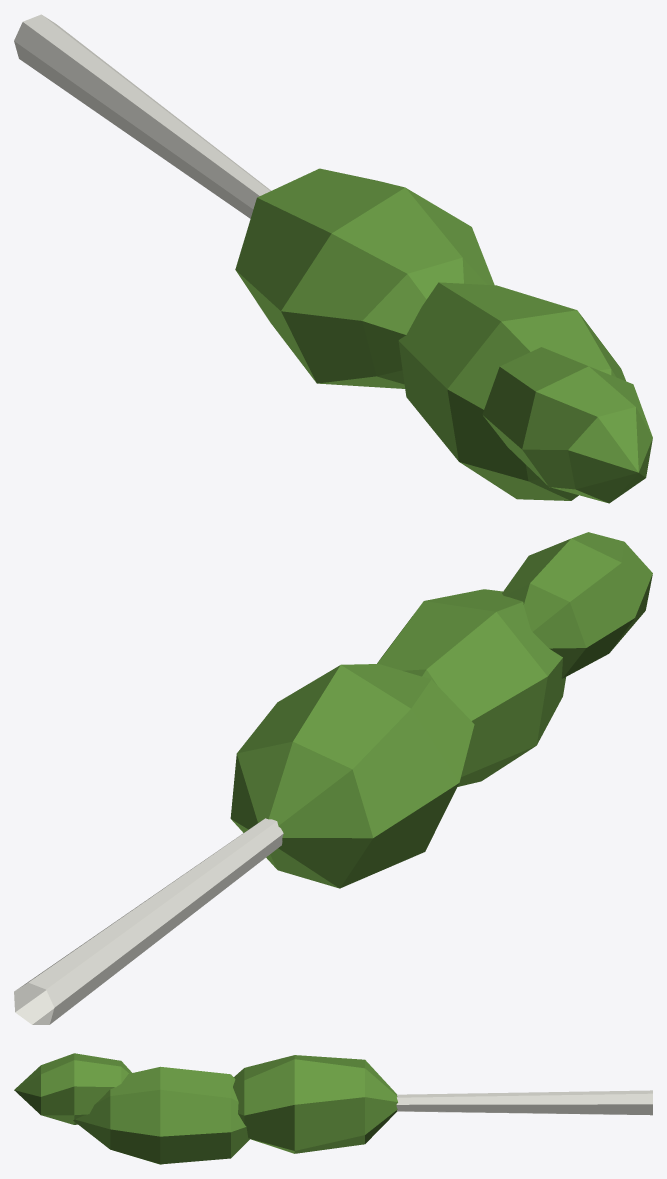
The model's file is growth_1.glb.
3 renders of one model, top to bottom at view 1: azimuth 30°, elevation 25°; view 2: azimuth 150°, elevation 25°; view 3: azimuth 270°, elevation 25°, orthographic. The views are drawn at different scales.
Parts seen in each view (by area): view 1: tree_03_growth_1; view 2: tree_03_growth_1; view 3: tree_03_growth_1.
Boxes of the visible parts, x1,y1,x2,y2 form: tree_03_growth_1: (14, 14, 652, 503); tree_03_growth_1: (14, 532, 652, 1024); tree_03_growth_1: (14, 1053, 652, 1164).
Bounding box in the file's own units: 6 × 5.78 × 30.39.
